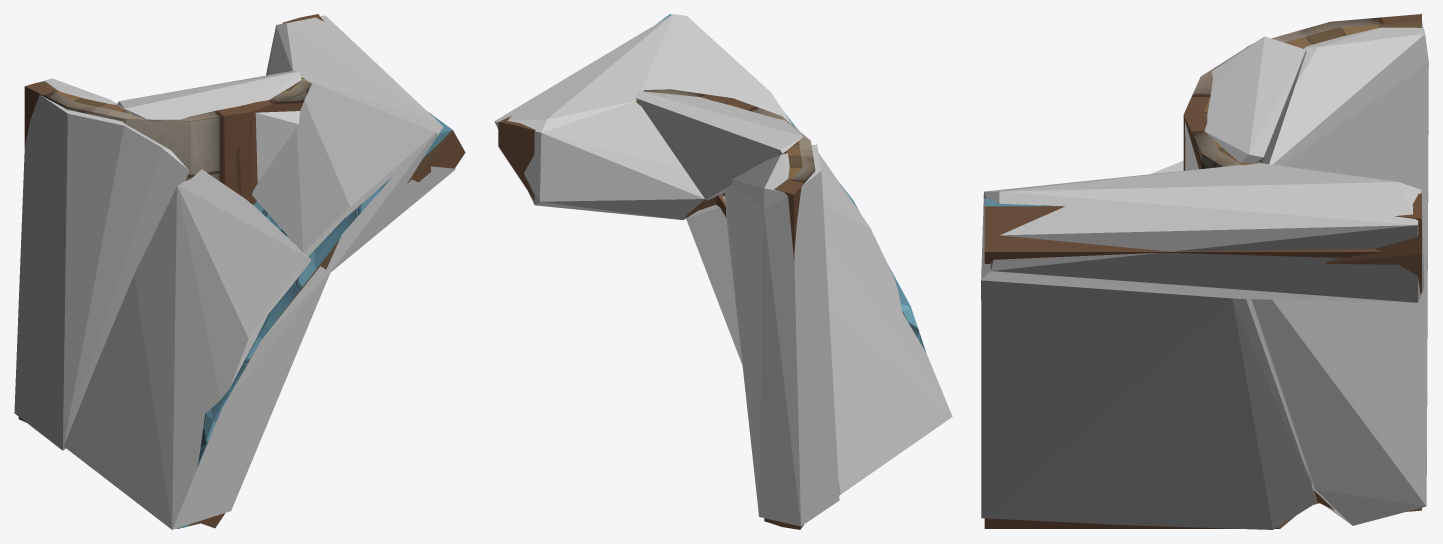
The model's file is SM_Bld_Roof_Convex_Tower_01.fbx.
The picture shows the model from 3 angles, left to right: view 1: azimuth 30°, elevation 25°; view 2: azimuth 150°, elevation 25°; view 3: azimuth 270°, elevation 25°; orthographic projection. The views are drawn at different scales.
Parts seen in each view (by area): view 1: SM_Bld_Roof_Convex_Tower_01_ConvexHulls, SM_Bld_Roof_Convex_Tower_01; view 2: SM_Bld_Roof_Convex_Tower_01_ConvexHulls, SM_Bld_Roof_Convex_Tower_01; view 3: SM_Bld_Roof_Convex_Tower_01_ConvexHulls, SM_Bld_Roof_Convex_Tower_01.
Boxes of the visible parts, <box> form: SM_Bld_Roof_Convex_Tower_01_ConvexHulls: <box>14,15,455,529</box>; SM_Bld_Roof_Convex_Tower_01: <box>18,14,465,528</box>; SM_Bld_Roof_Convex_Tower_01_ConvexHulls: <box>494,14,952,526</box>; SM_Bld_Roof_Convex_Tower_01: <box>498,14,926,529</box>; SM_Bld_Roof_Convex_Tower_01_ConvexHulls: <box>981,21,1428,529</box>; SM_Bld_Roof_Convex_Tower_01: <box>984,14,1421,528</box>.
Bounding box in the file's own units: 292 × 256 × 314.
5 materials, 4 textured.
